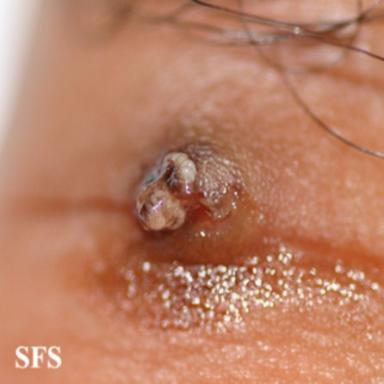Tungiasis: (137, 141, 245, 231)
